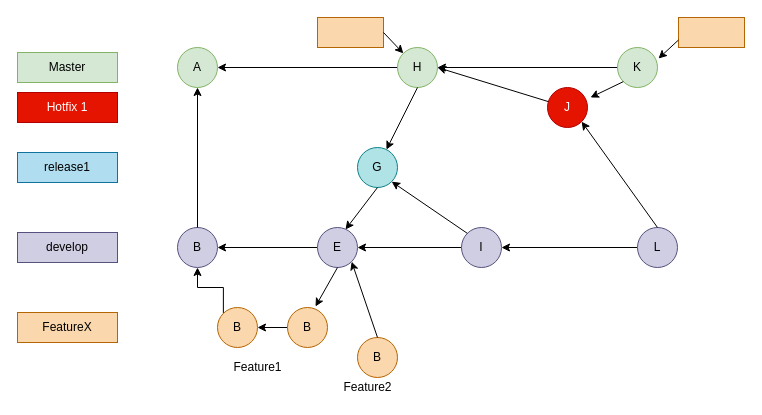
This 762x415 diagram has some shape labels left out. The centre of each missing label's shape, as x and y in pixels:
"V1.00" belongs at point (350, 32).
"V1.01" belongs at point (711, 32).
